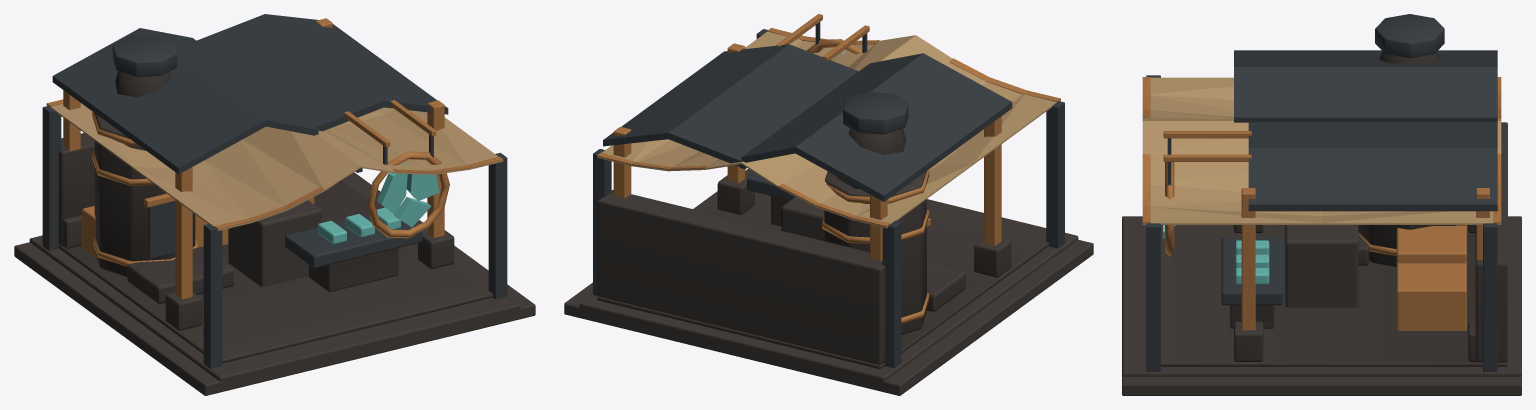
File: emberglass-arrival-v1.glb
3 renders of one model, left to right at view 1: azimuth 30°, elevation 25°; view 2: azimuth 150°, elevation 25°; view 3: azimuth 270°, elevation 25°, orthographic. The views are drawn at different scales.
Parts seen in each view (by area): view 1: GB_EMBERGLASS_SMITHY_Geometry, GB_EMBERGLASS_SHELTER_Geometry, GB_EMBERGLASS_BASALT_Geometry; view 2: GB_EMBERGLASS_SMITHY_Geometry, GB_EMBERGLASS_SHELTER_Geometry, GB_EMBERGLASS_BASALT_Geometry; view 3: GB_EMBERGLASS_SMITHY_Geometry, GB_EMBERGLASS_SHELTER_Geometry, GB_EMBERGLASS_BASALT_Geometry.
Boxes of the visible parts, x1,y1,x2,y2 form: GB_EMBERGLASS_SMITHY_Geometry: [29, 14, 520, 390]; GB_EMBERGLASS_SHELTER_Geometry: [14, 99, 535, 395]; GB_EMBERGLASS_BASALT_Geometry: [228, 200, 321, 286]; GB_EMBERGLASS_SMITHY_Geometry: [579, 14, 1078, 385]; GB_EMBERGLASS_SHELTER_Geometry: [564, 28, 1093, 395]; GB_EMBERGLASS_BASALT_Geometry: [781, 197, 824, 240]; GB_EMBERGLASS_SMITHY_Geometry: [1122, 14, 1521, 376]; GB_EMBERGLASS_SHELTER_Geometry: [1122, 75, 1521, 395]; GB_EMBERGLASS_BASALT_Geometry: [1285, 225, 1358, 307].
Size of the model in its own units: 5.46 by 3.6 by 5.46.
